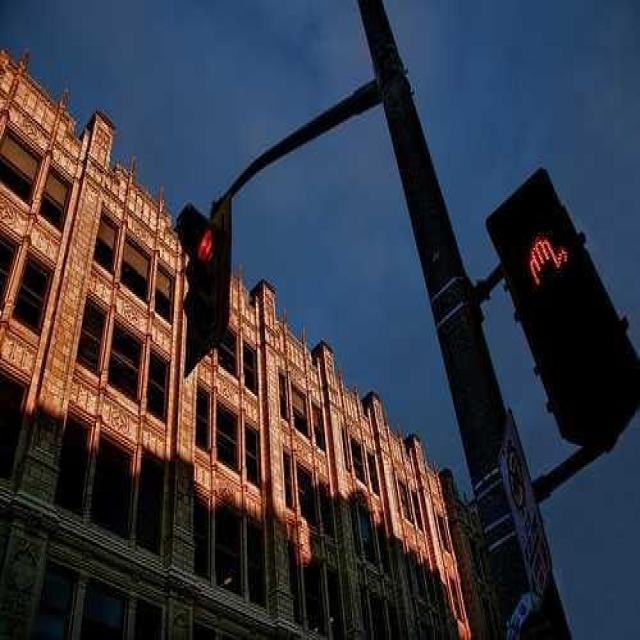Traffic Light -Red-: (172, 192, 234, 373)
